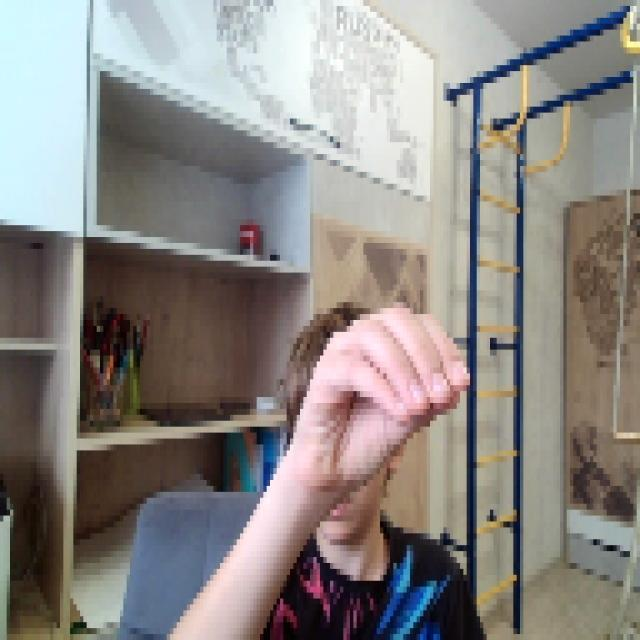left_click: (306, 296, 466, 486)
